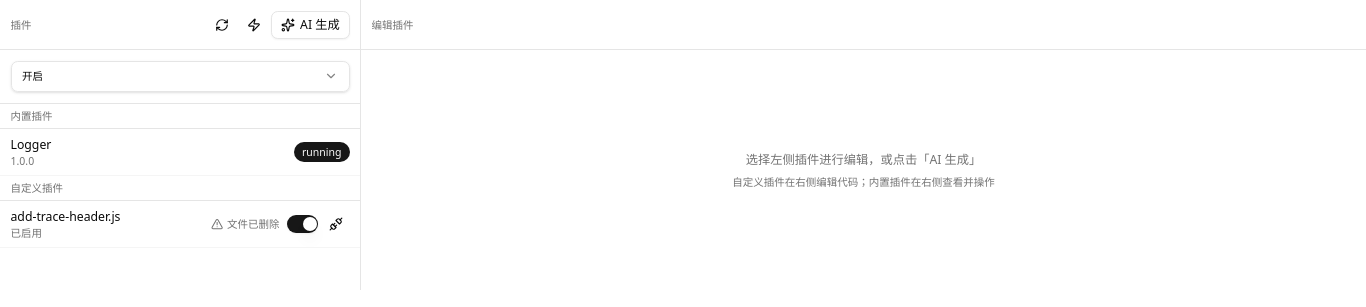
Test: PluginConfig list|edit › loaded plugin whose file was deleted › keeps 停止 (no 卸载) in the details pane of regular plugins
This screenshot has width=1366, height=307.
Click the element with test id "plugin-config-row-builtin-builtin.logger" at coordinates (180, 152), box [0,129,360,176]
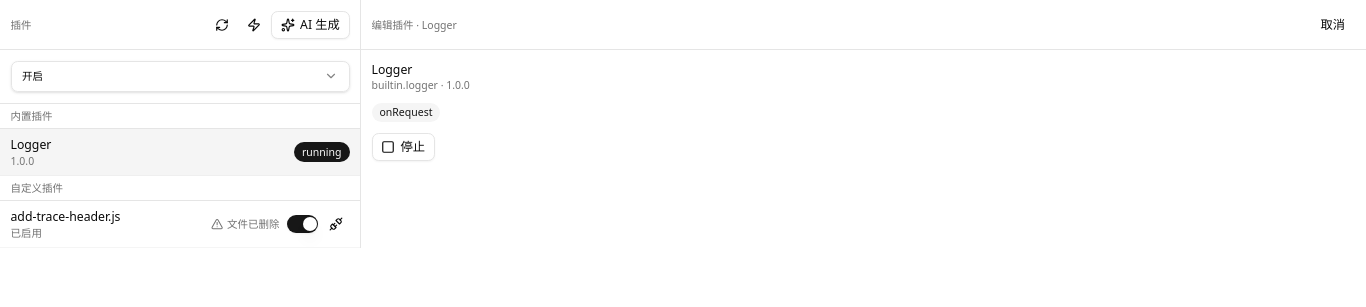
Check: the button with aria-label "停止插件 Logger" is shown, box [372,132,435,160]
